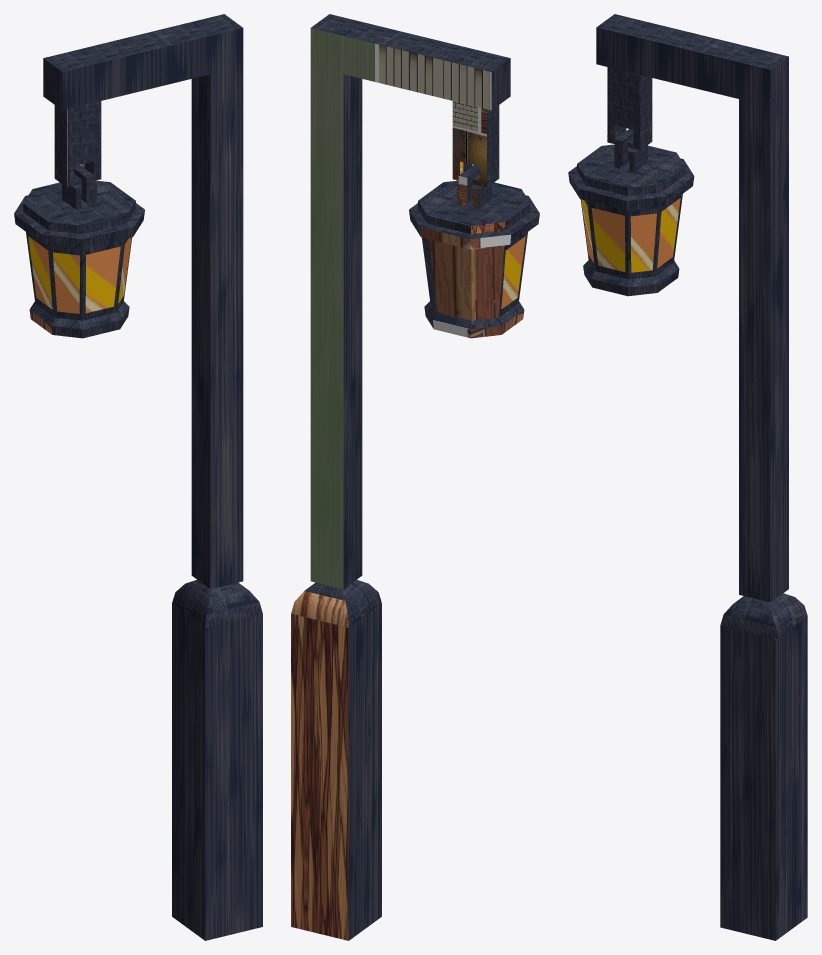
The model's file is street lamp.fbx.
3 views of the same model, side by side, from view 1: azimuth 30°, elevation 25°; view 2: azimuth 150°, elevation 25°; view 3: azimuth 330°, elevation 25° (orthographic). The views are drawn at different scales.
Parts seen in each view (by area): view 1: pCube68, pCube69, polySurface15, polySurface14; view 2: pCube68, pCube69, polySurface15, polySurface14; view 3: pCube68, pCube69, polySurface15.
Part boxes in pixels (<box>): pCube68: <box>43,14,262,940</box>; pCube69: <box>14,180,144,338</box>; polySurface15: <box>54,101,101,187</box>; polySurface14: <box>74,165,95,203</box>; pCube68: <box>291,14,510,940</box>; pCube69: <box>409,180,539,338</box>; polySurface15: <box>452,101,499,187</box>; polySurface14: <box>458,165,479,203</box>; pCube68: <box>596,14,807,940</box>; pCube69: <box>568,144,694,296</box>; polySurface15: <box>607,67,652,150</box>.
Bounding box in the file's own units: 139 × 547 × 65.22.
